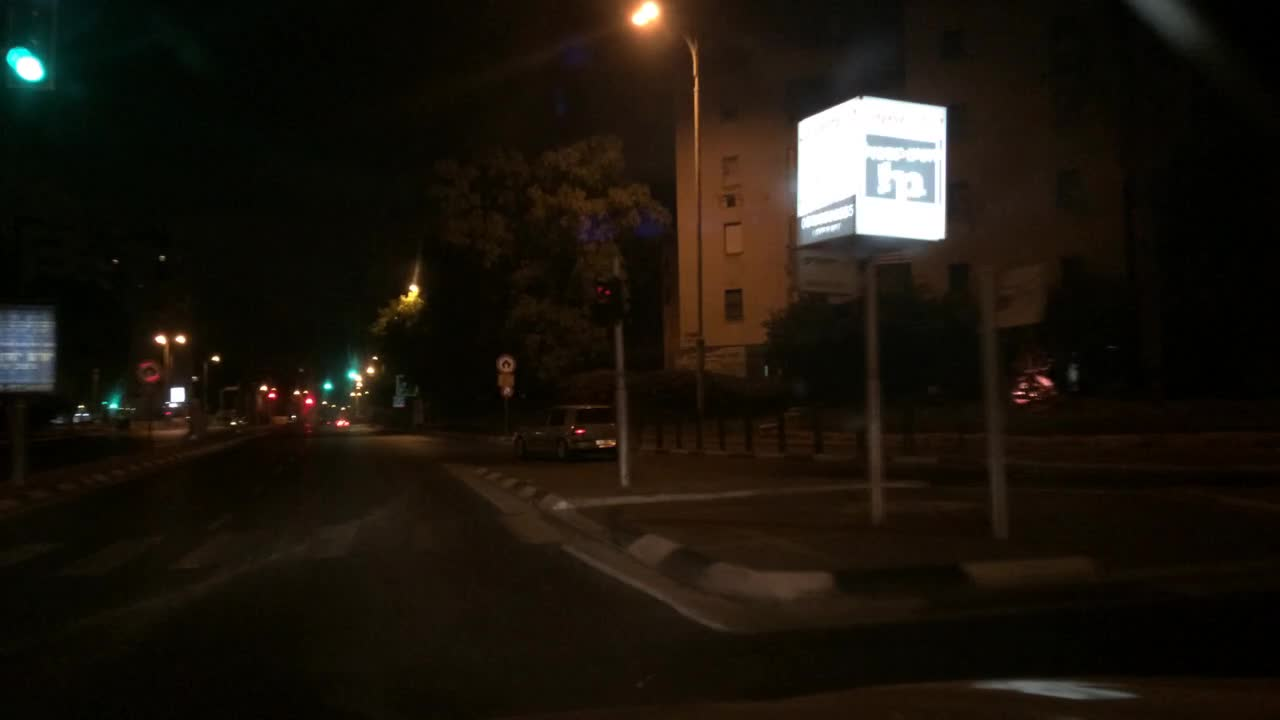car: (514, 400, 624, 463), (72, 405, 98, 424), (334, 417, 351, 429), (228, 417, 246, 427), (290, 413, 297, 420)
traffic light: (0, 40, 60, 93), (321, 379, 334, 392), (105, 397, 119, 409), (346, 366, 357, 380), (304, 395, 312, 405), (267, 391, 275, 398)
truck: (0, 314, 56, 391), (498, 373, 514, 395), (498, 353, 514, 372), (392, 395, 404, 407)
